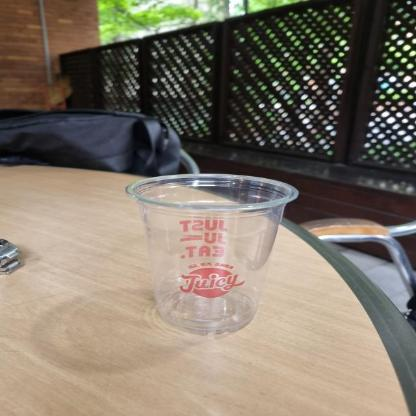Plastic Cup: (121, 169, 304, 339)
